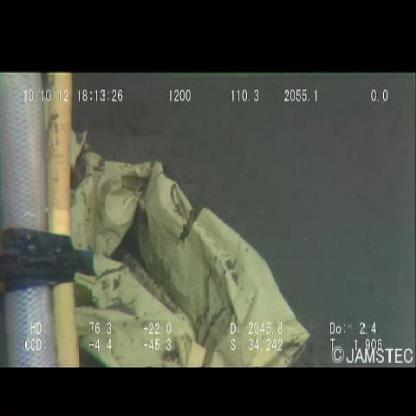Rác: (70, 127, 310, 381)
